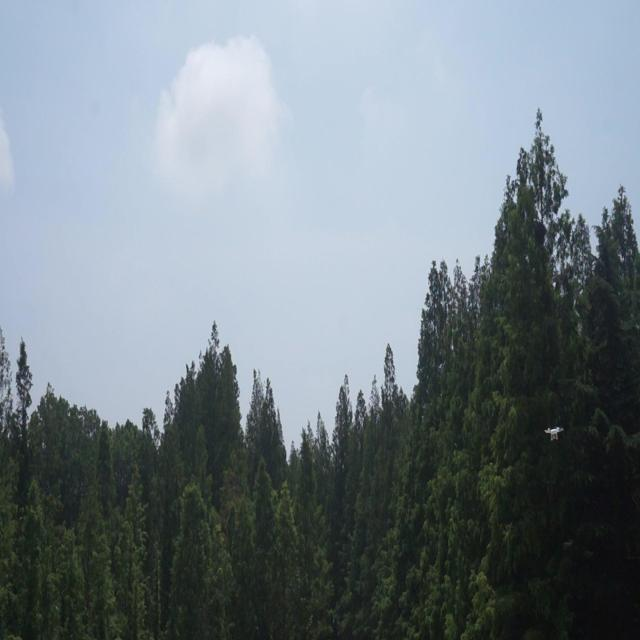drone: (544, 422, 563, 443)
